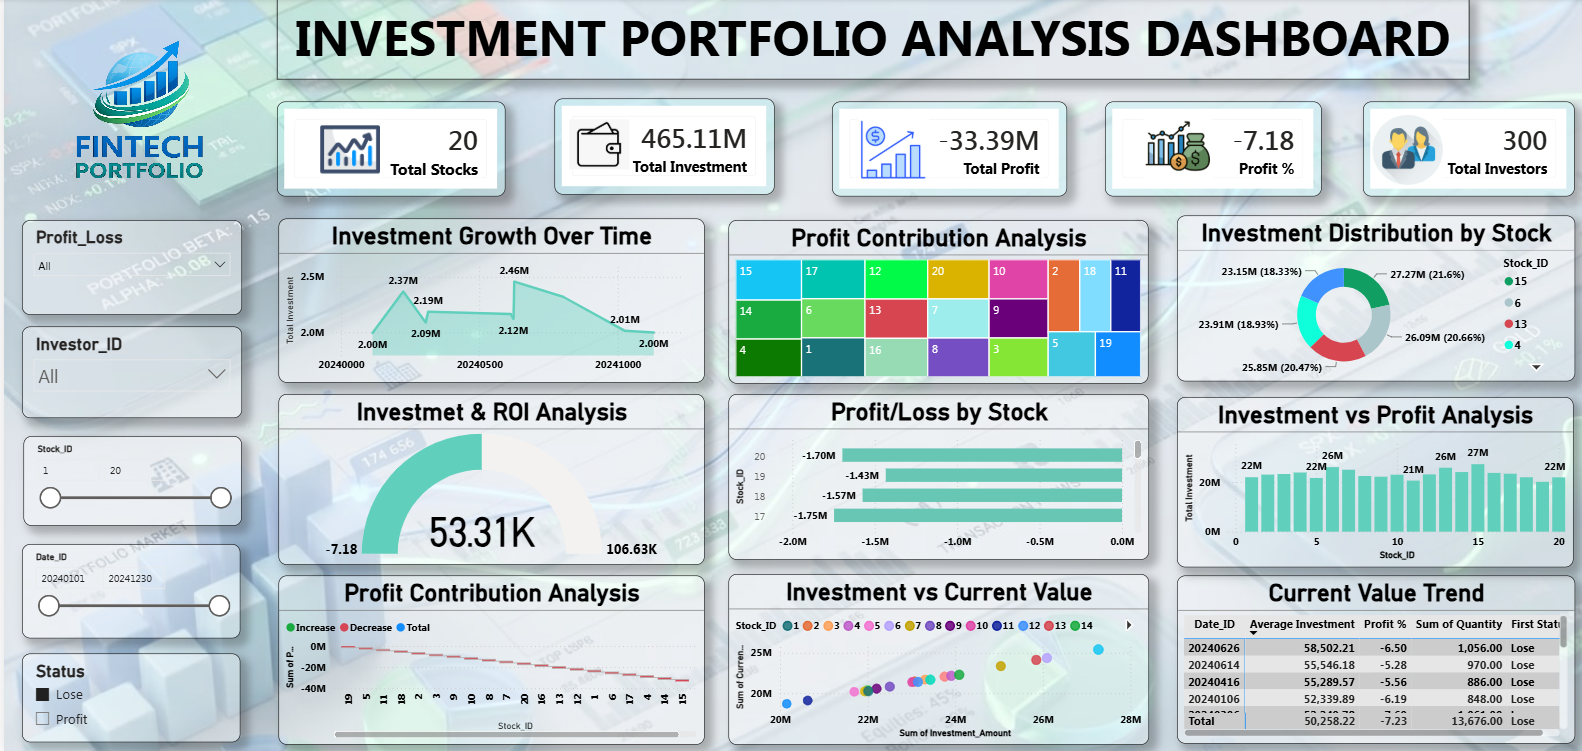

This screenshot's page, from the dashboard's own definition file:
{"tool":"powerbi","page":{"name":"Page 1","canvas":[1900,900],"ordinal":0},"visuals":[{"type":"cardVisual","fields":{"Data":["investment_db investment_portfolio.Total Investment","select"]},"box":[656.2,120.8,262.5,114.6],"z":0},{"type":"cardVisual","fields":{"Data":["investment_db investment_portfolio.Total Stocks"]},"box":[326.1,123.3,272.4,113.3],"z":1000},{"type":"cardVisual","fields":{"Data":["investment_db investment_portfolio.Total Profit"]},"box":[988.2,123.3,280.3,113.3],"z":3000},{"type":"cardVisual","fields":{"Data":["investment_db investment_portfolio.Profit %"]},"box":[1314.2,123.3,258.5,113.3],"z":4000},{"type":"cardVisual","fields":{"Data":["investment_db investment_portfolio.Total Investors"]},"box":[1622.4,123.3,252.5,113.3],"z":5000},{"type":"slicer","fields":{"Values":["investment_db investment_portfolio.Profit_Loss"]},"box":[21.9,264.4,262.5,113.3],"z":6000},{"type":"slicer","fields":{"Values":["investment_db investment_portfolio.Investor_ID"]},"box":[21.9,391.7,262.5,109.4],"z":7000},{"type":"slicer","fields":{"Values":["investment_db investment_portfolio.Stock_ID"]},"box":[23.9,522.9,260.5,107.4],"z":8000},{"type":"slicer","fields":{"Values":["investment_db investment_portfolio.Date_ID"]},"box":[20.8,652.1,260.4,112.5],"z":9000},{"type":"slicer","fields":{"Values":["investment_db investment_portfolio.Status"]},"box":[20.8,783.3,260.4,106.2],"z":10000},{"type":"areaChart","title":"Investment Growth Over Time","fields":{"Category":["investment_db investment_portfolio.Date_ID"],"Y":["investment_db investment_portfolio.Total Investment"]},"box":[327.1,262.5,508.3,195.8],"z":11000},{"type":"clusteredBarChart","title":"Profit/Loss by Stock","fields":{"Category":["investment_db investment_portfolio.Stock_ID"],"Y":["Sum(investment_db investment_portfolio.Profit_Loss)"]},"box":[864.6,472.9,502.1,197.9],"z":12000},{"type":"donutChart","title":"Investment Distribution by Stock","fields":{"Category":["investment_db investment_portfolio.Stock_ID"],"Y":["Sum(investment_db investment_portfolio.Investment_Amount)"]},"box":[1400,260.4,475,197.9],"z":13000},{"type":"pivotTable","title":"Current Value Trend","fields":{"Rows":["investment_db investment_portfolio.Date_ID"],"Values":["investment_db investment_portfolio.Average Investment","investment_db investment_portfolio.Profit %","Sum(investment_db investment_portfolio.Quantity)","Min(investment_db investment_portfolio.Status)"]},"box":[1399.7,689.9,475.2,200.8],"z":14000},{"type":"gauge","title":"Investmet & ROI Analysis","fields":{"MinValue":["investment_db investment_portfolio.ROI %"],"Y":["investment_db investment_portfolio.Average Investment"]},"box":[327.1,472.9,508.3,204.2],"z":15000},{"type":"treemap","title":"Profit Contribution Analysis","fields":{"Group":["investment_db investment_portfolio.Stock_ID"],"Values":["Sum(investment_db investment_portfolio.Profit_Loss)"]},"box":[865.3,265.2,501.2,195.5],"z":16000},{"type":"textbox","box":[326.1,0,1423.6,97.4],"z":17000},{"type":"waterfallChart","title":"Profit Contribution Analysis","fields":{"Category":["investment_db investment_portfolio.Stock_ID"],"Y":["Sum(investment_db investment_portfolio.Profit_Loss)"]},"box":[327.1,689.6,508.3,202.1],"z":18000},{"type":"scatterChart","title":"Investment vs Current Value","fields":{"Series":["investment_db investment_portfolio.Stock_ID"],"Size":["Sum(investment_db investment_portfolio.Profit_Loss)"],"X":["Sum(investment_db investment_portfolio.Investment_Amount)"],"Y":["Sum(investment_db investment_portfolio.Current_Value)"]},"box":[864.6,687.5,502.1,204.2],"z":19000},{"type":"columnChart","title":"Investment vs Profit Analysis","fields":{"Category":["investment_db investment_portfolio.Stock_ID"],"Y":["investment_db investment_portfolio.Total Investment"]},"box":[1400.8,475.4,473.1,203.1],"z":20000},{"type":"image","box":[618.4,145.1,184.9,59.6],"z":21000},{"type":"image","box":[363.9,145.1,99.4,71.6],"z":22000},{"type":"image","box":[1018,125.3,85.5,111.3],"z":24000},{"type":"image","box":[1292.4,135.2,216.7,81.5],"z":25000},{"type":"image","box":[1554.8,139.2,242.6,83.5],"z":26000},{"type":"image","box":[0,0,327.1,287.5],"z":27000}]}

Visuals, with their boxes in screenshot pixels (x1, y1, x2, y2), scaled from the page's 1900x900 canvas onto the 1582x751 screenshot:
cardVisual - investment_db investment_portfolio.Total Investment x select: <bbox>546, 101, 765, 196</bbox>
cardVisual - investment_db investment_portfolio.Total Stocks: <bbox>272, 103, 498, 197</bbox>
cardVisual - investment_db investment_portfolio.Total Profit: <bbox>823, 103, 1056, 197</bbox>
cardVisual - investment_db investment_portfolio.Profit %: <bbox>1094, 103, 1309, 197</bbox>
cardVisual - investment_db investment_portfolio.Total Investors: <bbox>1351, 103, 1561, 197</bbox>
slicer - investment_db investment_portfolio.Profit_Loss: <bbox>18, 221, 237, 315</bbox>
slicer - investment_db investment_portfolio.Investor_ID: <bbox>18, 327, 237, 418</bbox>
slicer - investment_db investment_portfolio.Stock_ID: <bbox>20, 436, 237, 526</bbox>
slicer - investment_db investment_portfolio.Date_ID: <bbox>17, 544, 234, 638</bbox>
slicer - investment_db investment_portfolio.Status: <bbox>17, 654, 234, 742</bbox>
"Investment Growth Over Time" areaChart: <bbox>272, 219, 696, 382</bbox>
"Profit/Loss by Stock" clusteredBarChart: <bbox>720, 395, 1138, 560</bbox>
"Investment Distribution by Stock" donutChart: <bbox>1166, 217, 1561, 382</bbox>
"Current Value Trend" pivotTable: <bbox>1165, 576, 1561, 743</bbox>
"Investmet & ROI Analysis" gauge: <bbox>272, 395, 696, 565</bbox>
"Profit Contribution Analysis" treemap: <bbox>720, 221, 1138, 384</bbox>
textbox: <bbox>272, 0, 1457, 81</bbox>
"Profit Contribution Analysis" waterfallChart: <bbox>272, 575, 696, 744</bbox>
"Investment vs Current Value" scatterChart: <bbox>720, 574, 1138, 744</bbox>
"Investment vs Profit Analysis" columnChart: <bbox>1166, 397, 1560, 566</bbox>
image: <bbox>515, 121, 669, 171</bbox>
image: <bbox>303, 121, 386, 181</bbox>
image: <bbox>848, 105, 919, 197</bbox>
image: <bbox>1076, 113, 1257, 181</bbox>
image: <bbox>1295, 116, 1497, 186</bbox>
image: <bbox>0, 0, 272, 240</bbox>
